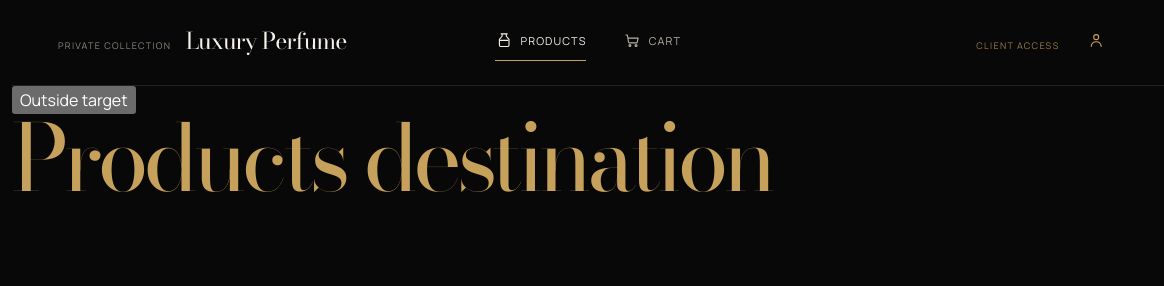
keeps pointer travel open so Account Details remains clickable
The width and height of the screenshot is (1164, 286).
Hover over the button named "Account menu" at (1096, 40), box x1=1074 y1=16 x2=1118 y2=64
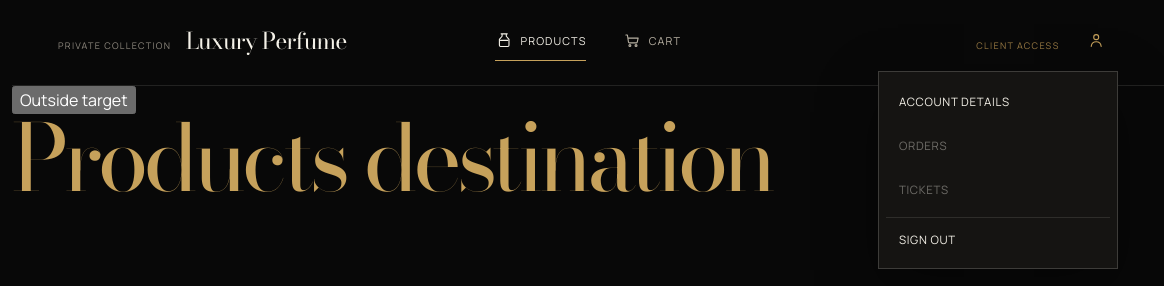
Hover over the menu named "Account menu" at (998, 170), box x1=878 y1=72 x2=1118 y2=270
Check: the menu named "Account menu" is shown, box x1=878 y1=72 x2=1118 y2=270
Click the menu item "Account Details" at (954, 102), box x1=899 y1=94 x2=1010 y2=109
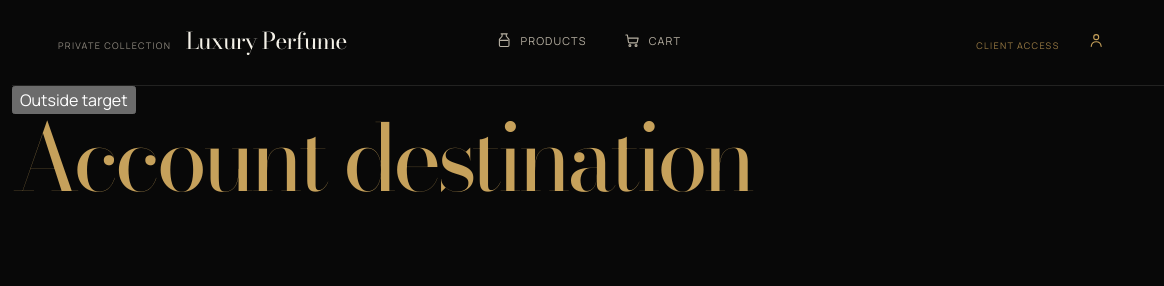
Check: the heading "Account destination" is shown, box x1=12 y1=87 x2=751 y2=228
